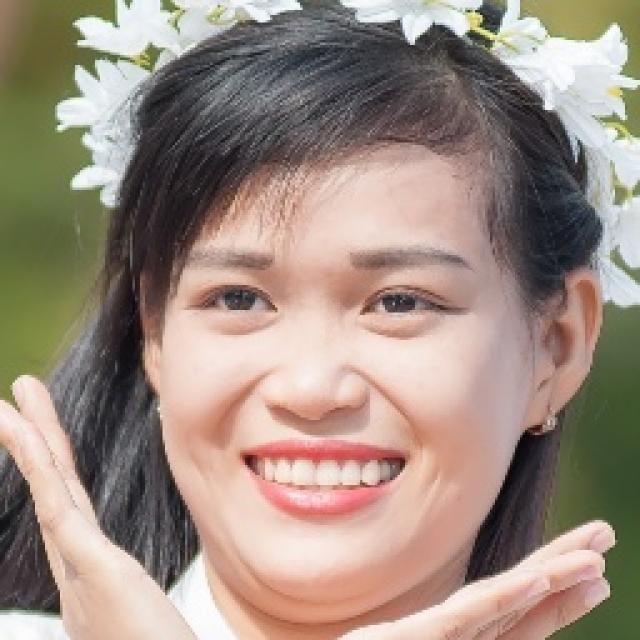earlobe: (522, 379, 564, 431), (144, 359, 162, 403)
eye: (354, 283, 453, 328), (195, 280, 277, 324)
nose: (263, 404, 363, 435)
wholeear: (522, 266, 601, 432), (136, 254, 162, 404)
